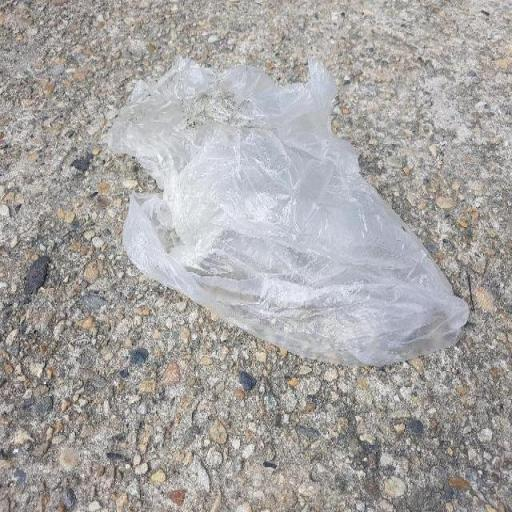plastic-bag: (106, 51, 472, 371)
